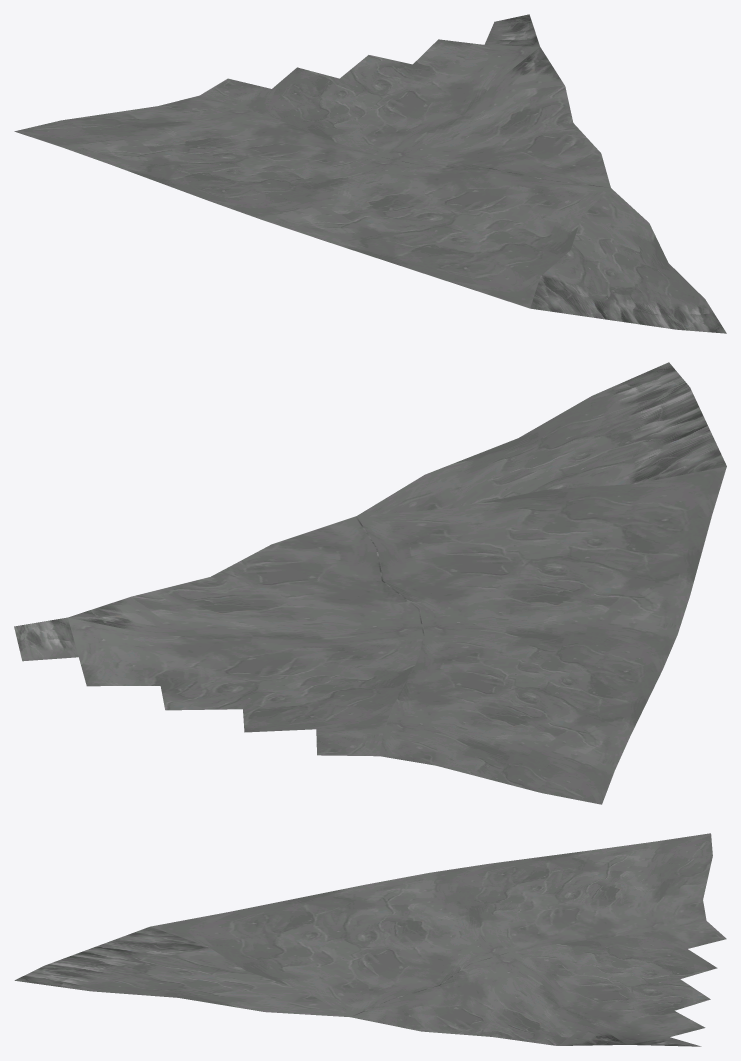
File: SWORDLIGHT20_PS-AREA04_28.fbx
The picture shows the model from 3 angles, top to bottom: view 1: azimuth 30°, elevation 25°; view 2: azimuth 150°, elevation 25°; view 3: azimuth 270°, elevation 25°; orthographic projection. The views are drawn at different scales.
Parts seen in each view (by area): view 1: SWORDLIGHT20_PS-AREA04_28; view 2: SWORDLIGHT20_PS-AREA04_28; view 3: SWORDLIGHT20_PS-AREA04_28.
Boxes of the visible parts, x1,y1,x2,y2 form: SWORDLIGHT20_PS-AREA04_28: [14, 14, 726, 333]; SWORDLIGHT20_PS-AREA04_28: [14, 362, 726, 804]; SWORDLIGHT20_PS-AREA04_28: [14, 833, 726, 1046].
Size of the model in its own units: 114789 by 5124 by 157148.
Materials: 2 (2 with a texture image).
